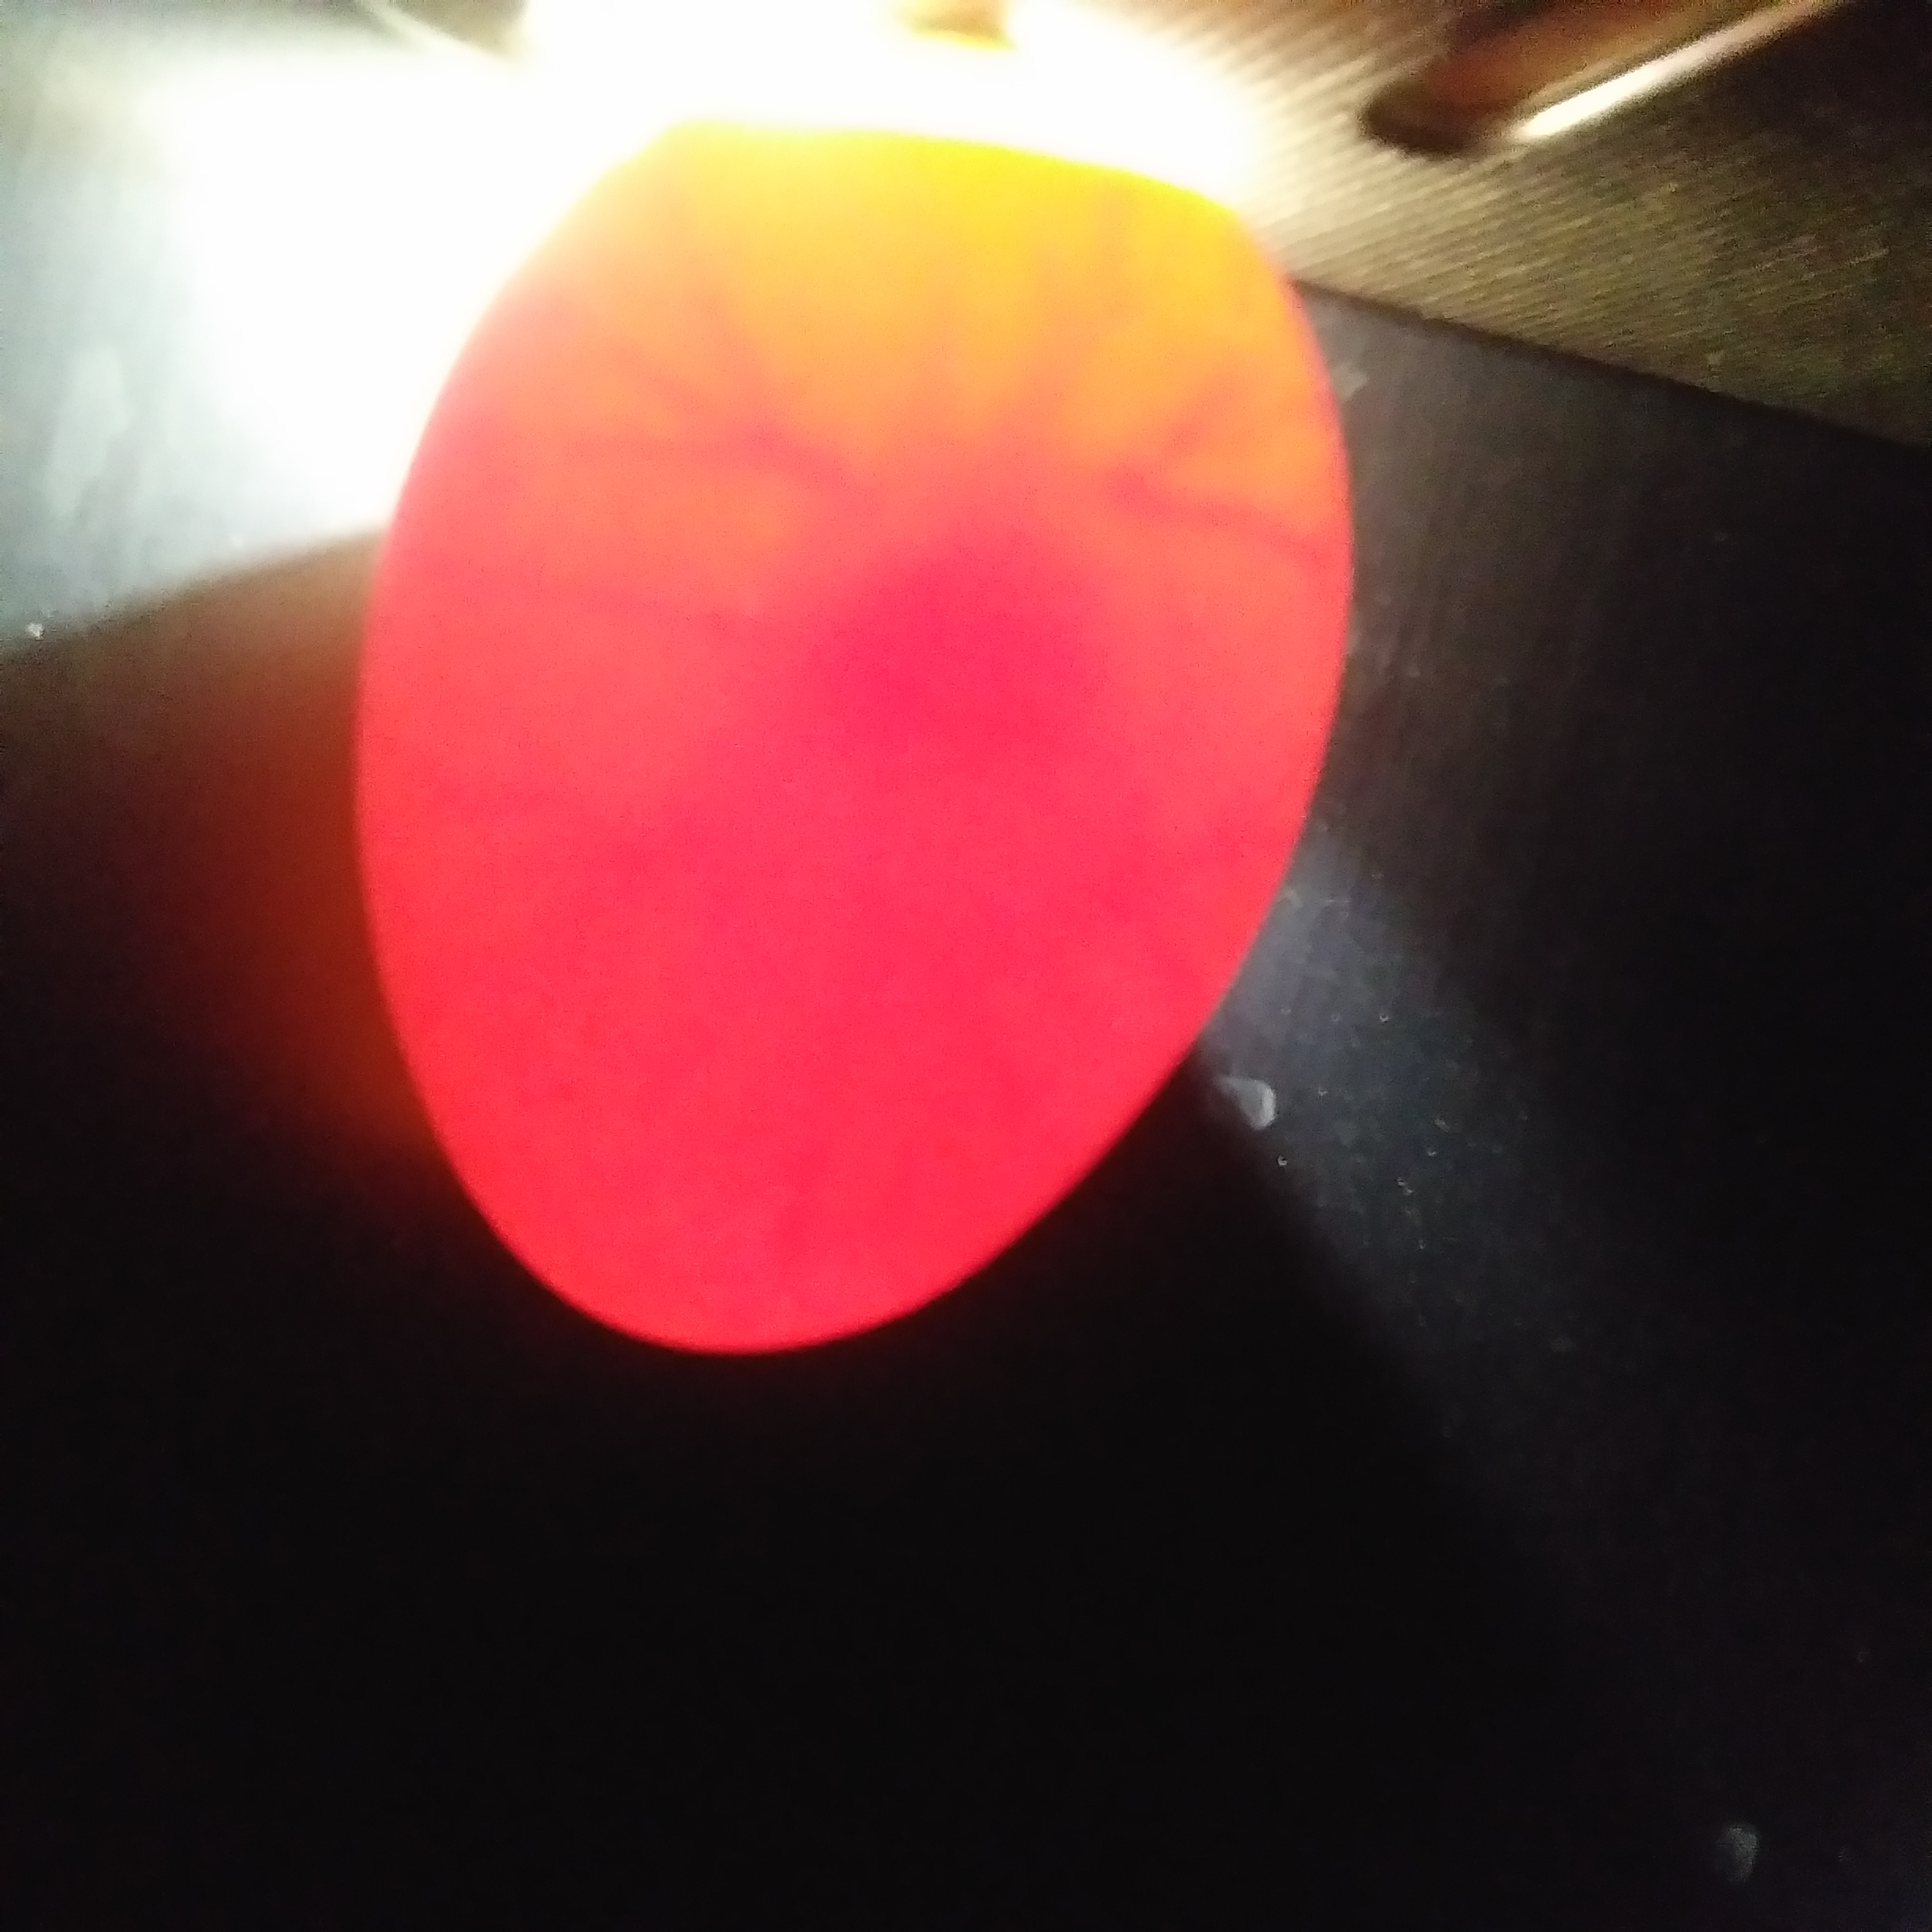bloodcell: (1008, 225, 1267, 508), (571, 301, 858, 550)
